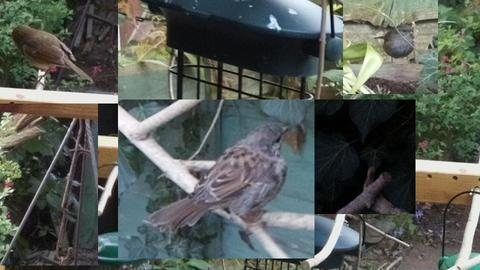dunnock: (143, 124, 290, 234)
robin: (7, 25, 93, 82)
sparrow: (374, 25, 413, 63)
